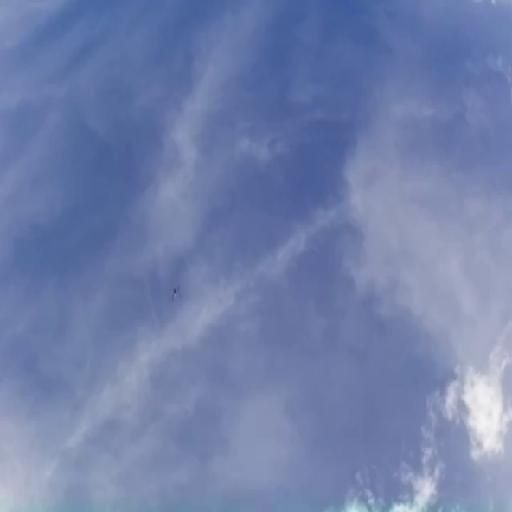drones: (167, 281, 185, 304)
